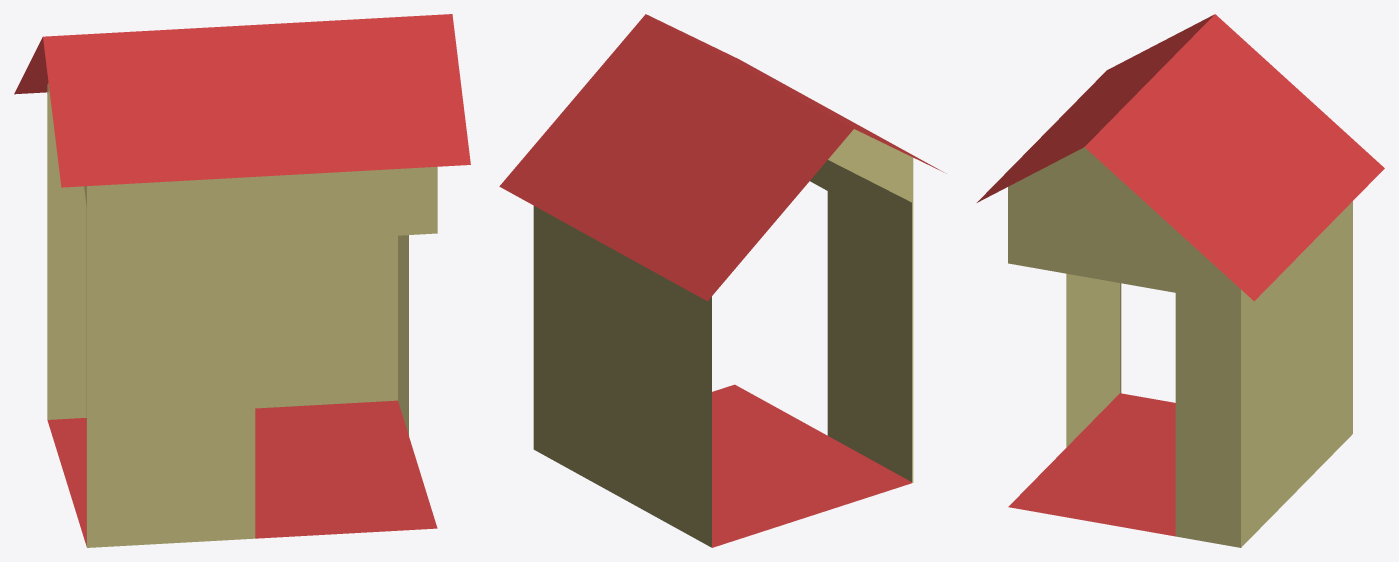
3 renders of one model, left to right at view 1: azimuth 30°, elevation 25°; view 2: azimuth 150°, elevation 25°; view 3: azimuth 270°, elevation 25°, orthographic. The views are drawn at different scales.
Bounding box in the file's own units: 13.16 × 12.5 × 12.98.
